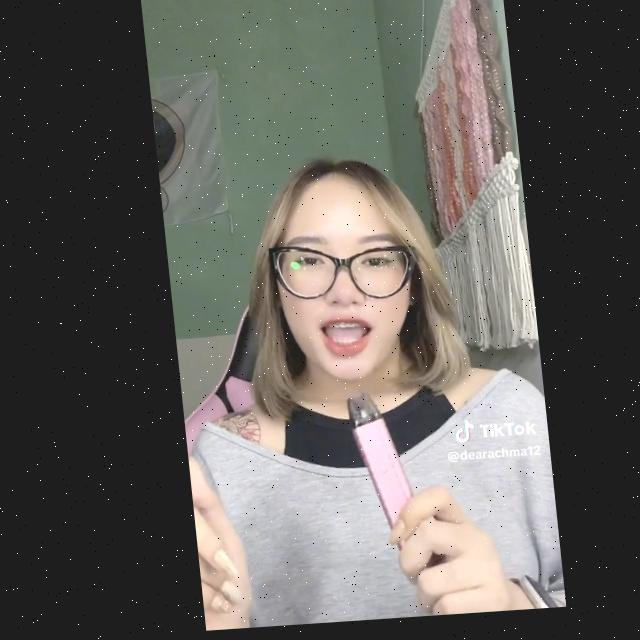vape: (337, 394, 418, 565)
